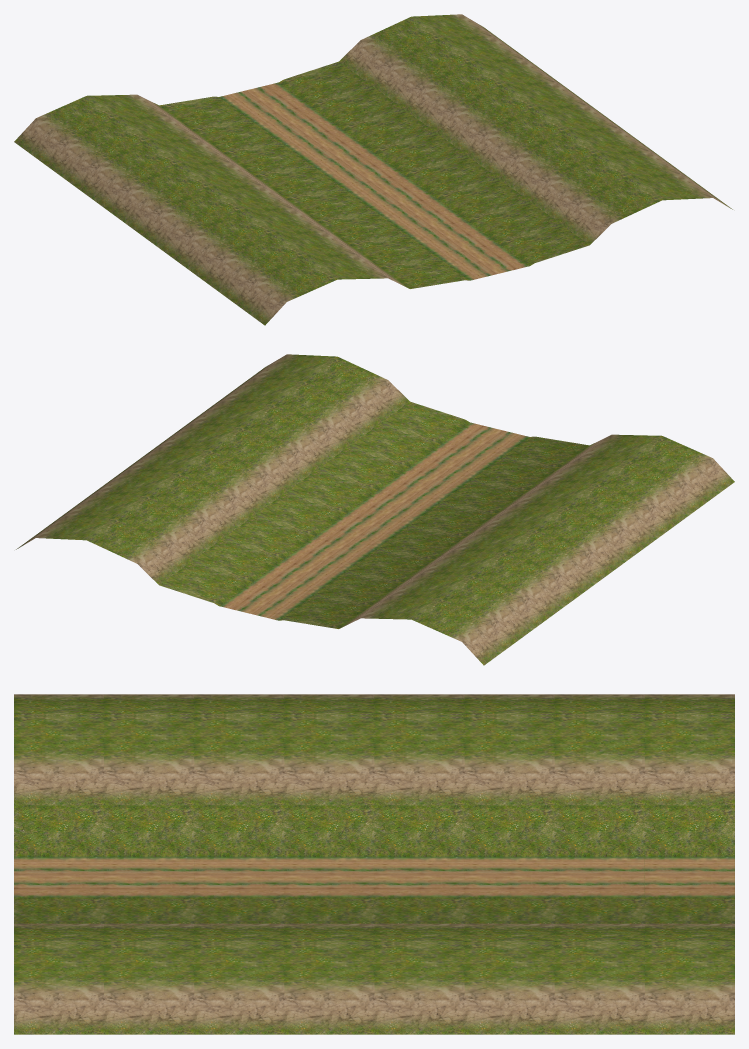
The model's file is Ground_Straight.FBX.
3 views of the same model, one above another, from view 1: azimuth 30°, elevation 25°; view 2: azimuth 150°, elevation 25°; view 3: azimuth 270°, elevation 25° (orthographic). The views are drawn at different scales.
Visible parts, largest first — view 1: Ground_Straight; view 2: Ground_Straight; view 3: Ground_Straight.
Boxes of the visible parts, x1=… form: Ground_Straight: x1=14, y1=14, x2=732, y2=325; Ground_Straight: x1=16, y1=354, x2=734, y2=665; Ground_Straight: x1=14, y1=694, x2=734, y2=1034.
Bounding box in the file's own units: 4324 × 294 × 4000.
